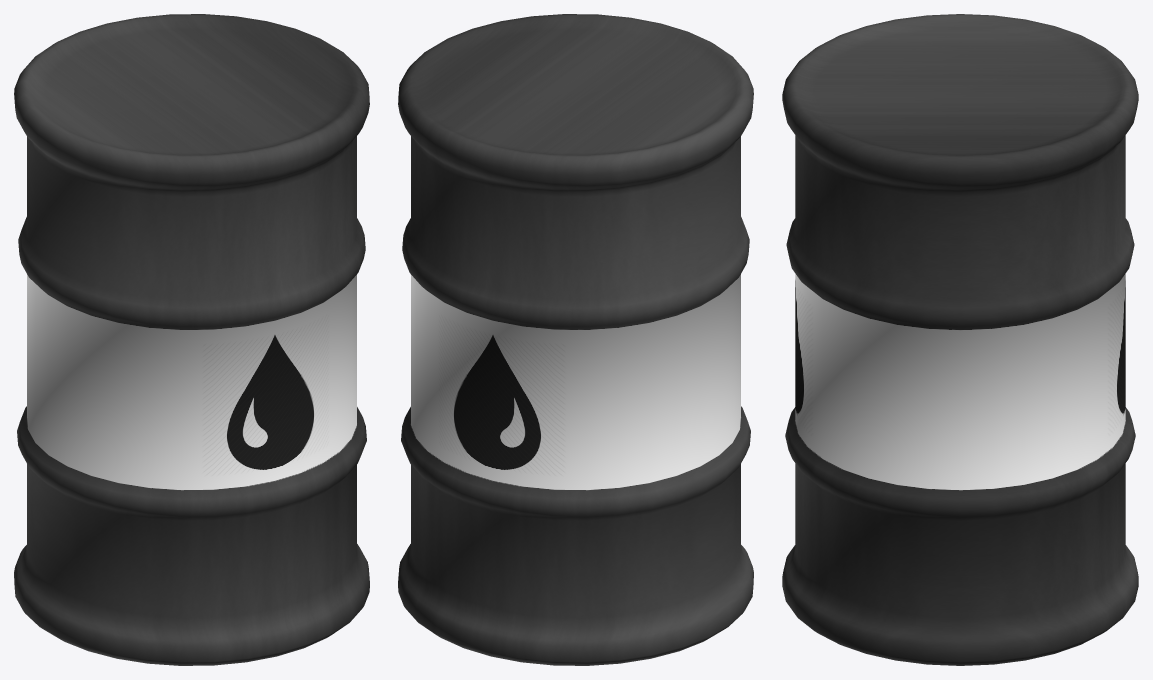
File: OilBarrel.fbx
3 views of the same model, side by side, from view 1: azimuth 30°, elevation 25°; view 2: azimuth 150°, elevation 25°; view 3: azimuth 270°, elevation 25° (orthographic).
Parts seen in each view (by area): view 1: OilBarrelOil; view 2: OilBarrelOil; view 3: OilBarrelOil.
Boxes of the visible parts, x1,y1,x2,y2 form: OilBarrelOil: (14,14,369,665); OilBarrelOil: (398,14,753,665); OilBarrelOil: (782,14,1138,665).
Size of the model in its own units: 144 by 226 by 144.
Materials: 1 (1 with a texture image).
